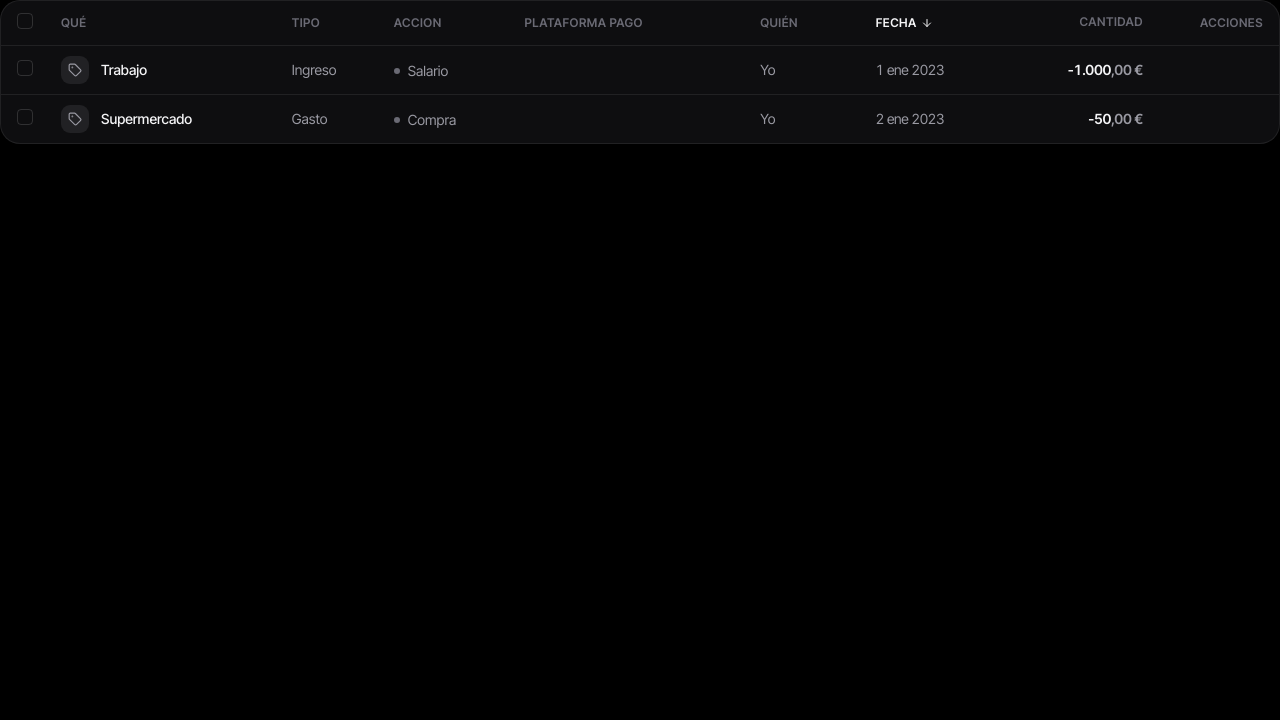
FinanceTable › opens the detail sheet from the keyboard-reachable description
Click the button "Trabajo" at (124, 70), box [101,60,147,80]
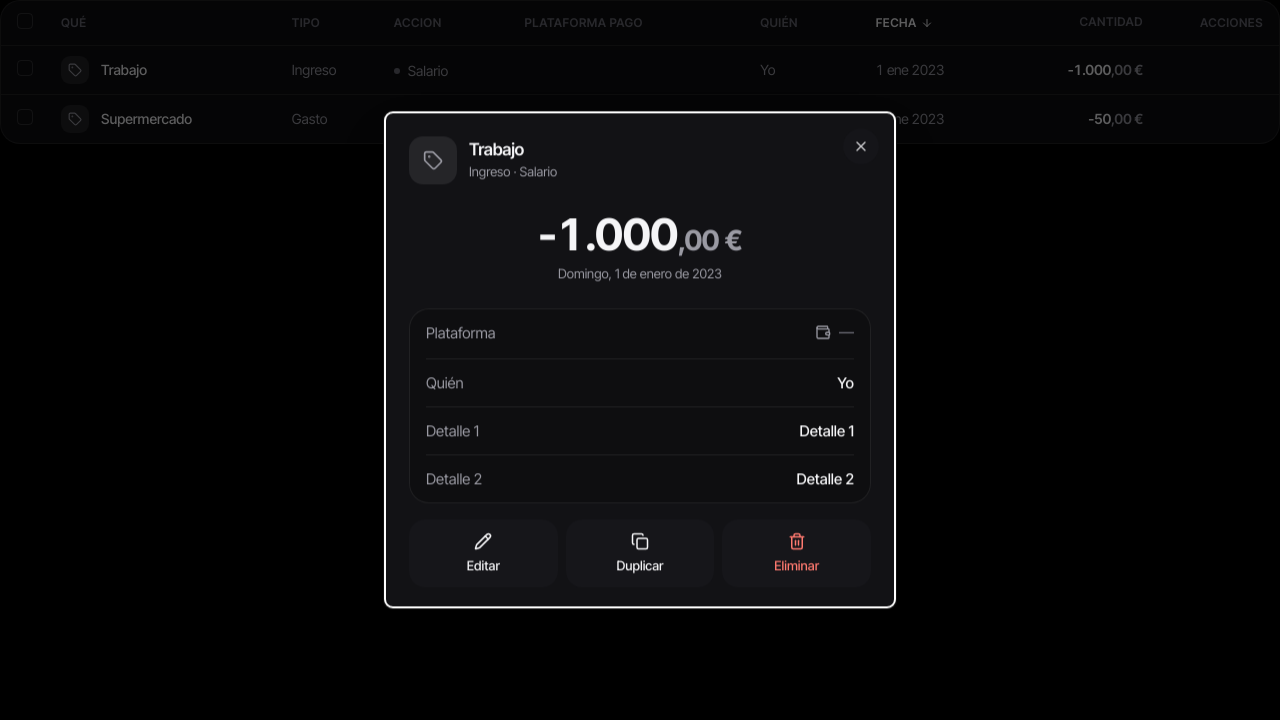
Check: the dialog is shown, box [384,111,896,609]
